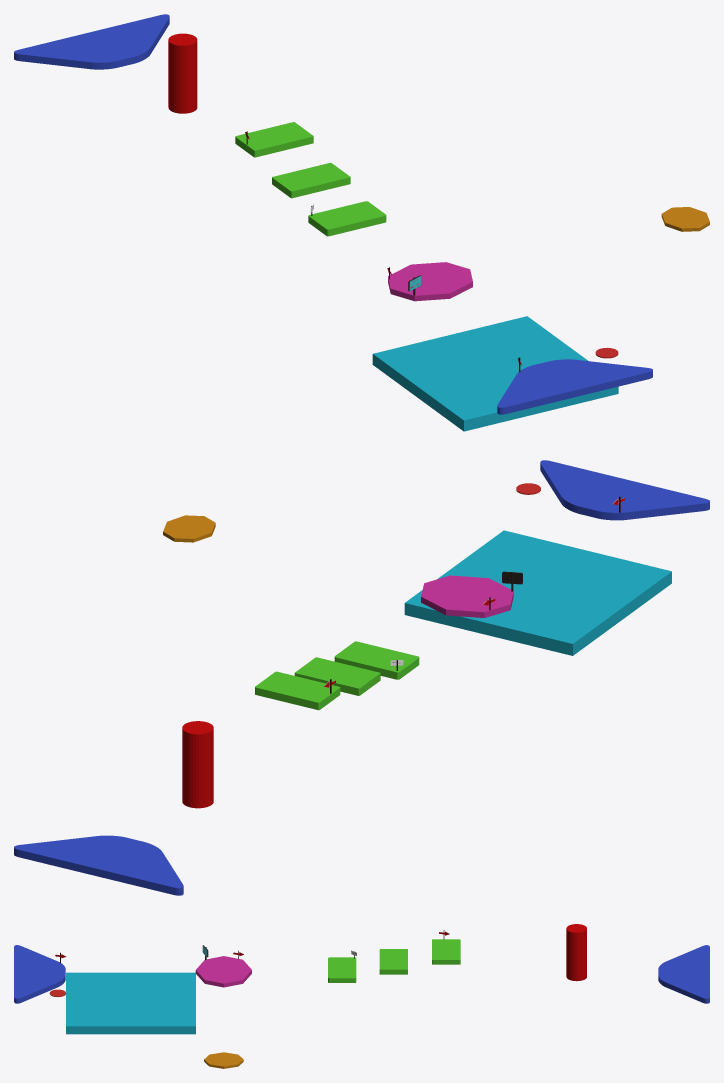
The model's file is Stage2(Base).obj.
The picture shows the model from 3 angles, top to bottom: view 1: azimuth 30°, elevation 25°; view 2: azimuth 150°, elevation 25°; view 3: azimuth 270°, elevation 25°; orthographic projection. The views are drawn at different scales.
Parts seen in each view (by area): view 1: 立方体.001, 立方体.029, 立方体, 立方体.007, 円柱, 立方体.003, 立方体.002, 立方体.004, 立方体.036; view 2: 立方体.001, 立方体.029, 立方体, 立方体.007, 円柱, 立方体.004, 立方体.002, 立方体.003, 立方体.036; view 3: 立方体.001, 立方体.029, 立方体, 立方体.007, 円柱, 立方体.003, 立方体.004, 立方体.002, 立方体.036.
Boxes of the visible parts, left/top/right/bottom form: 立方体.001: left=372, top=316, right=618, bottom=431; 立方体.029: left=14, top=14, right=169, bottom=69; 立方体: left=497, top=359, right=652, bottom=414; 立方体.007: left=388, top=262, right=472, bottom=301; 円柱: left=168, top=33, right=197, bottom=113; 立方体.003: left=272, top=162, right=350, bottom=198; 立方体.002: left=308, top=201, right=386, bottom=236; 立方体.004: left=235, top=122, right=313, bottom=157; 立方体.036: left=661, top=207, right=709, bottom=231; 立方体.001: left=404, top=530, right=671, bottom=655; 立方体.029: left=14, top=835, right=183, bottom=895; 立方体: left=540, top=460, right=709, bottom=520; 立方体.007: left=421, top=575, right=513, bottom=617; 円柱: left=182, top=721, right=213, bottom=808; 立方体.004: left=255, top=671, right=340, bottom=710; 立方体.002: left=334, top=641, right=419, bottom=679; 立方体.003: left=294, top=657, right=380, bottom=695; 立方体.036: left=163, top=515, right=215, bottom=542; 立方体.001: left=66, top=972, right=195, bottom=1034; 立方体.029: left=658, top=945, right=709, bottom=1003; 立方体: left=14, top=945, right=65, bottom=1003; 立方体.007: left=195, top=956, right=251, bottom=987; 円柱: left=566, top=924, right=586, bottom=981; 立方体.003: left=379, top=949, right=407, bottom=974; 立方体.004: left=432, top=939, right=460, bottom=964; 立方体.002: left=328, top=957, right=356, bottom=982; 立方体.036: left=204, top=1052, right=243, bottom=1068.
Size of the model in its own units: 167 by 50.08 by 400.
16 materials, 2 textured.
